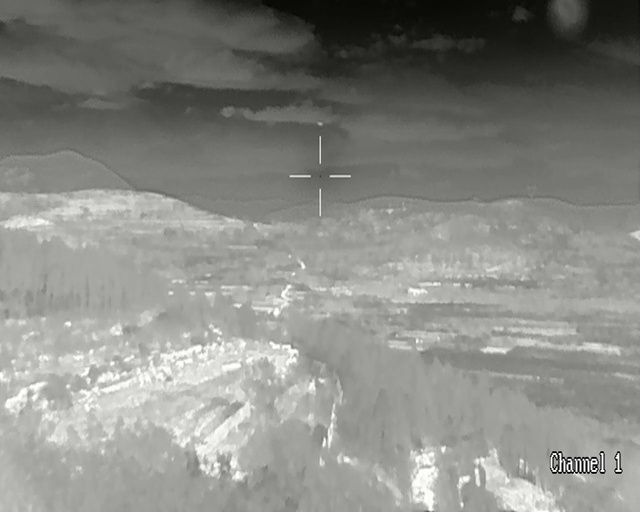uav: (317, 121, 323, 125)
